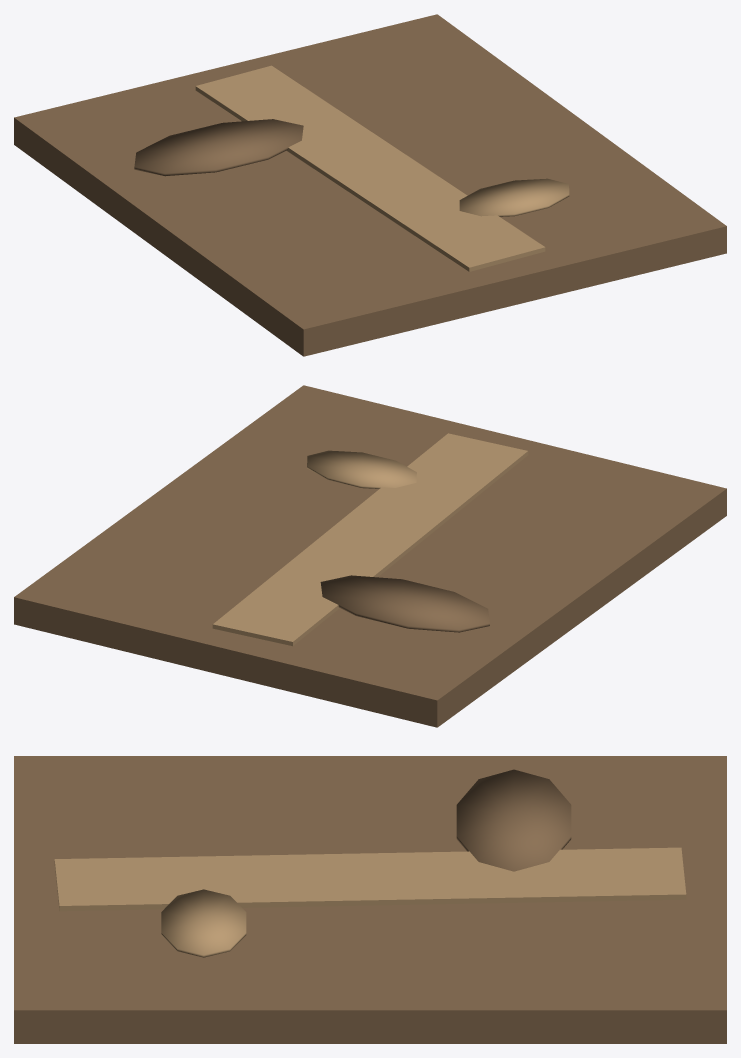
The model's file is track_mud_1lane.glb.
3 renders of one model, top to bottom at view 1: azimuth 30°, elevation 25°; view 2: azimuth 150°, elevation 25°; view 3: azimuth 270°, elevation 25°, orthographic. The views are drawn at different scales.
Visible parts, largest first — view 1: track_mud_1lane; view 2: track_mud_1lane; view 3: track_mud_1lane.
Boxes of the visible parts, <box> form: track_mud_1lane: <box>14,14,726,356</box>; track_mud_1lane: <box>14,385,726,727</box>; track_mud_1lane: <box>14,756,726,1043</box>.
Size of the model in its own units: 2.6 by 0.201 by 3.08.
